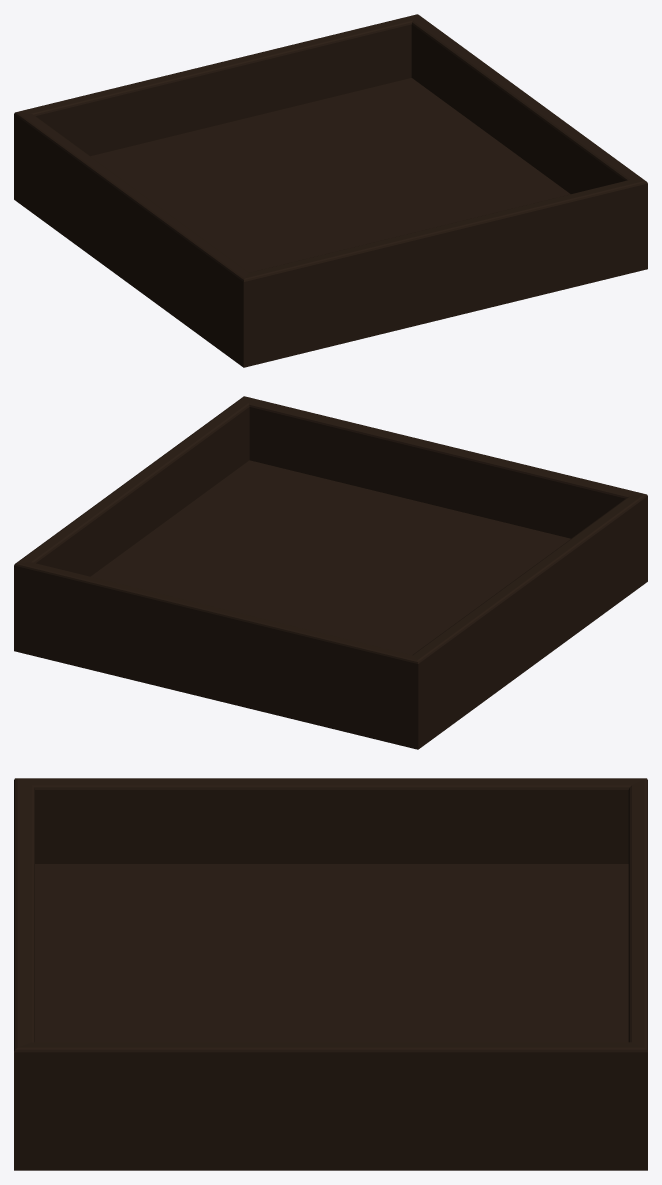
Rendered from shelf.obj.
The picture shows the model from 3 angles, top to bottom: view 1: azimuth 30°, elevation 25°; view 2: azimuth 150°, elevation 25°; view 3: azimuth 270°, elevation 25°; orthographic projection. The views are drawn at different scales.
Visible parts, largest first — view 1: shelf; view 2: shelf; view 3: shelf.
Part boxes in pixels (box(x1,y1,x2,y2)): shelf: box(14, 14, 647, 367); shelf: box(14, 396, 647, 749); shelf: box(14, 778, 647, 1170).
Size of the model in its own units: 0.4853 by 0.1008 by 0.4778.
